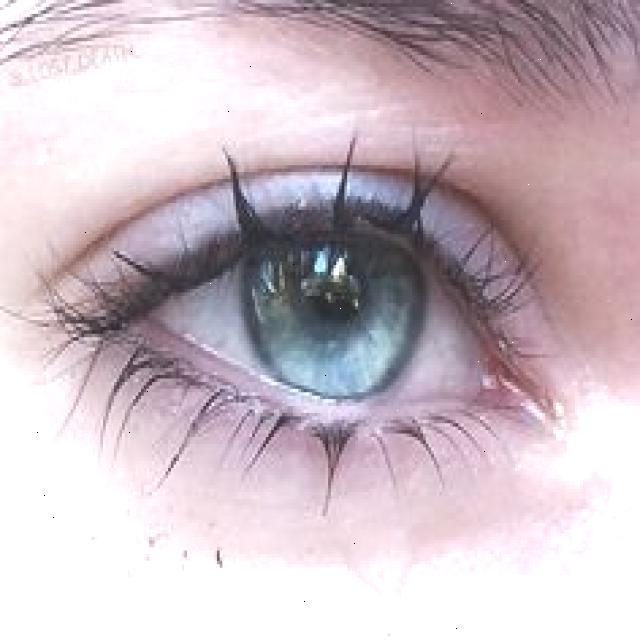Normal: (5, 130, 575, 516)
